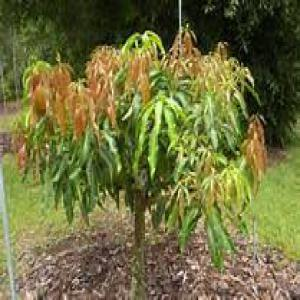Tree: (11, 19, 270, 262)
